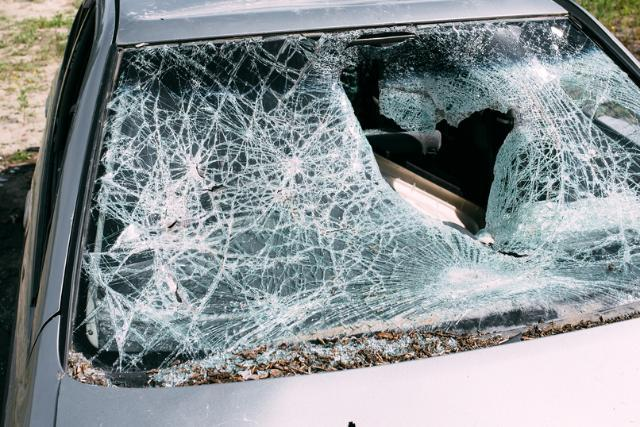Windshield: (90, 42, 640, 343)
